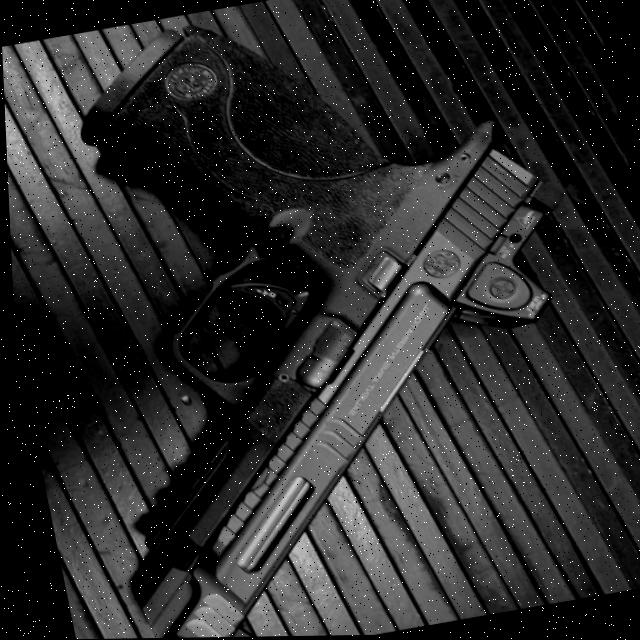pistol: (12, 0, 624, 640)
